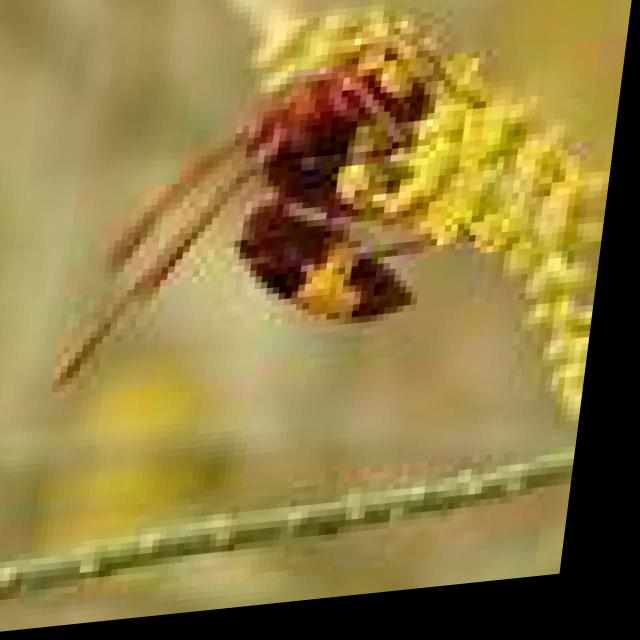Vespa Orientalis: (21, 0, 547, 464)
